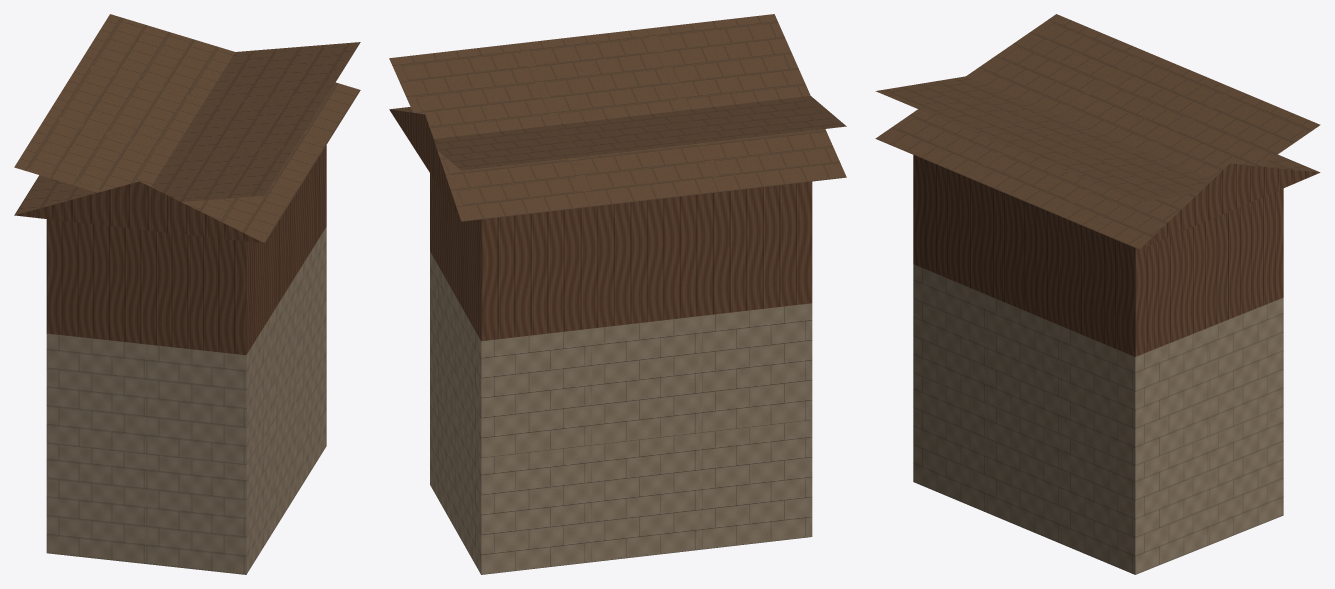
The model's file is bld_c10_11_490.gltf.
3 views of the same model, side by side, from view 1: azimuth 30°, elevation 25°; view 2: azimuth 150°, elevation 25°; view 3: azimuth 270°, elevation 25° (orthographic). The views are drawn at different scales.
Parts seen in each view (by area): view 1: bld_c10_11_490; view 2: bld_c10_11_490; view 3: bld_c10_11_490.
Part boxes in pixels (x1=…): bld_c10_11_490: x1=14, y1=14, x2=360, y2=574; bld_c10_11_490: x1=389, y1=14, x2=846, y2=574; bld_c10_11_490: x1=875, y1=14, x2=1320, y2=574.
Size of the model in its own units: 8.47 by 8.2 by 8.48.
Materials: 4 (4 with a texture image).
